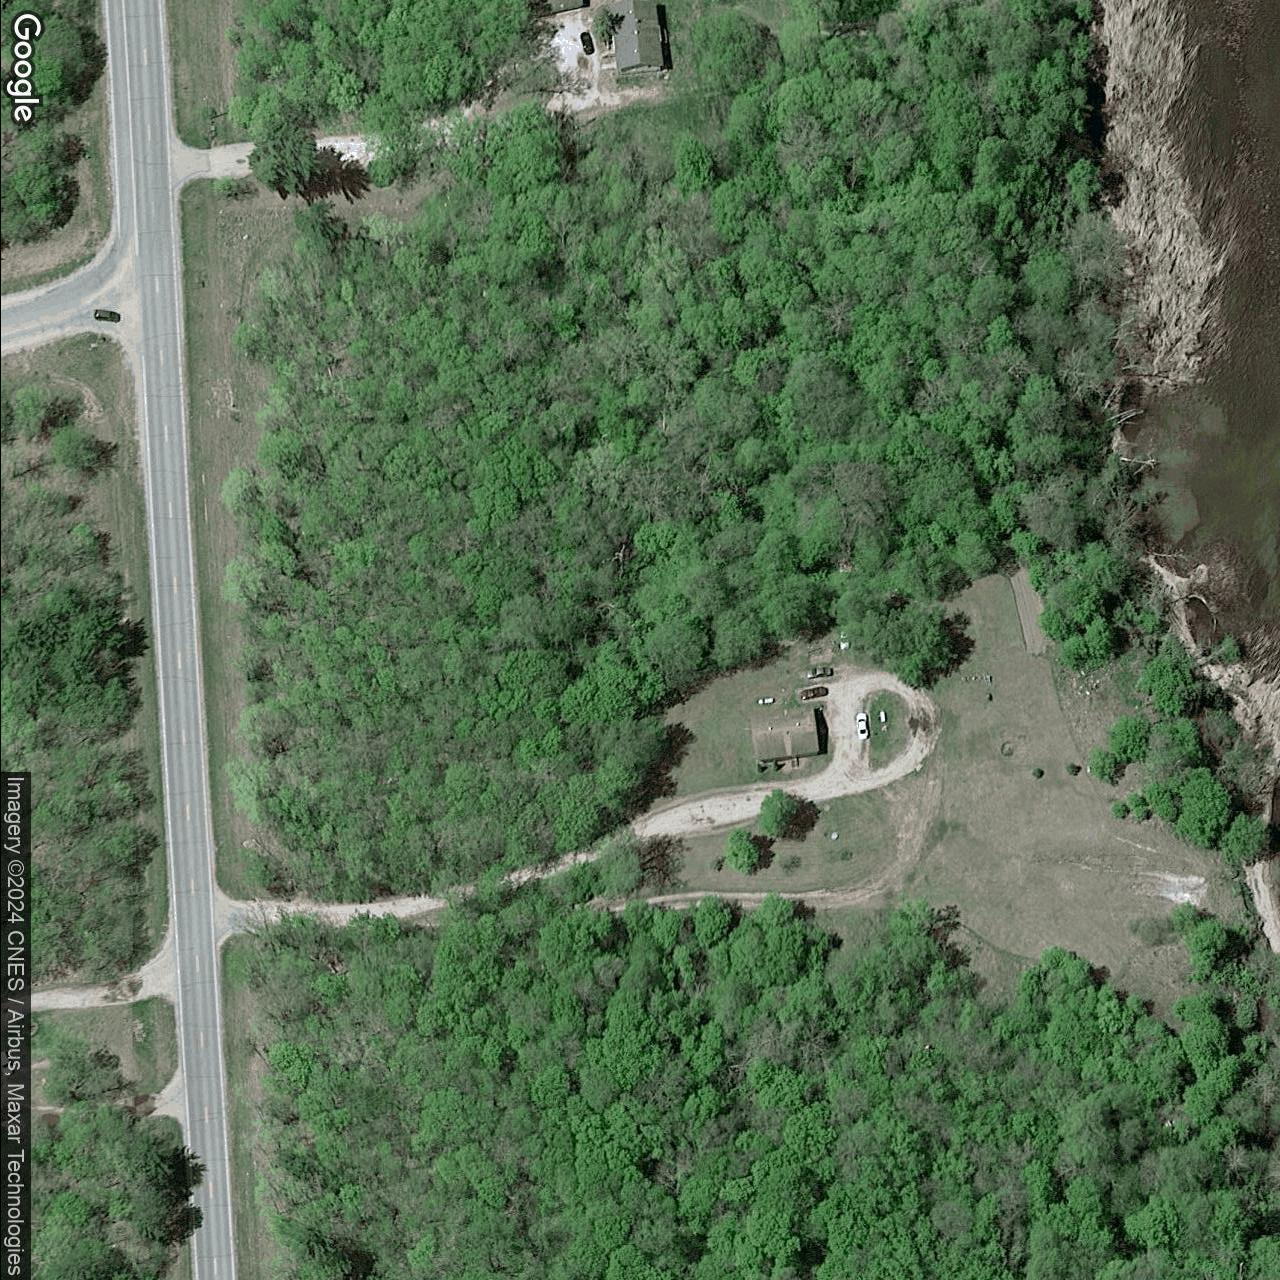House: (749, 704, 817, 761), (612, 0, 661, 74)
Propane: (878, 709, 886, 723)
